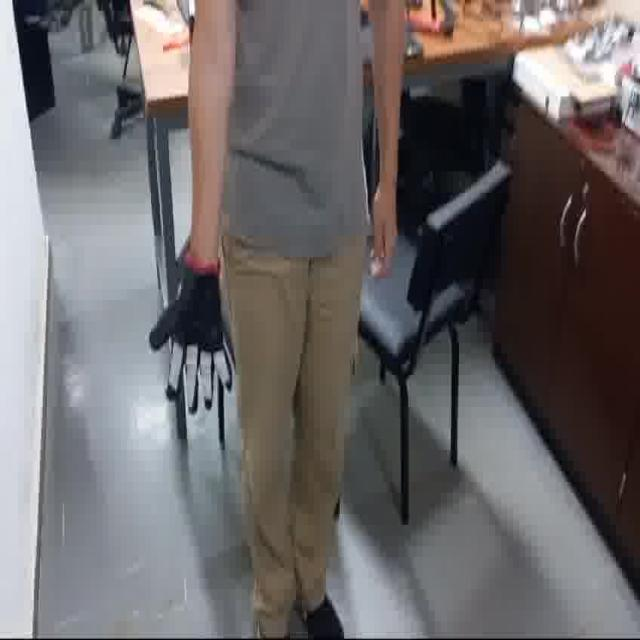Gloves: (152, 239, 244, 432)
